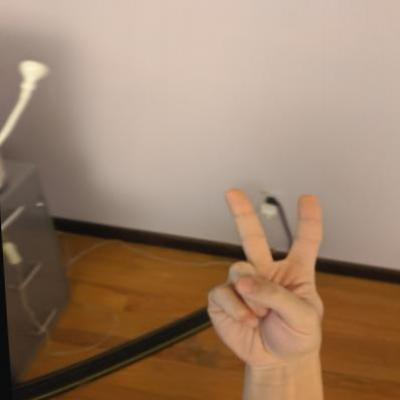hand: (193, 181, 334, 370)
